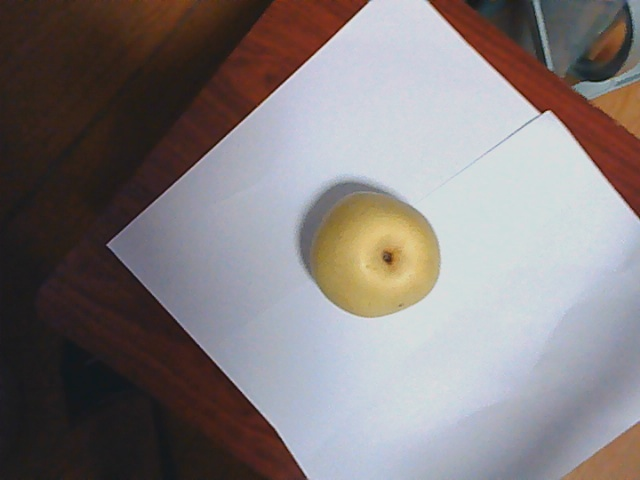pear: (315, 190, 442, 320)
